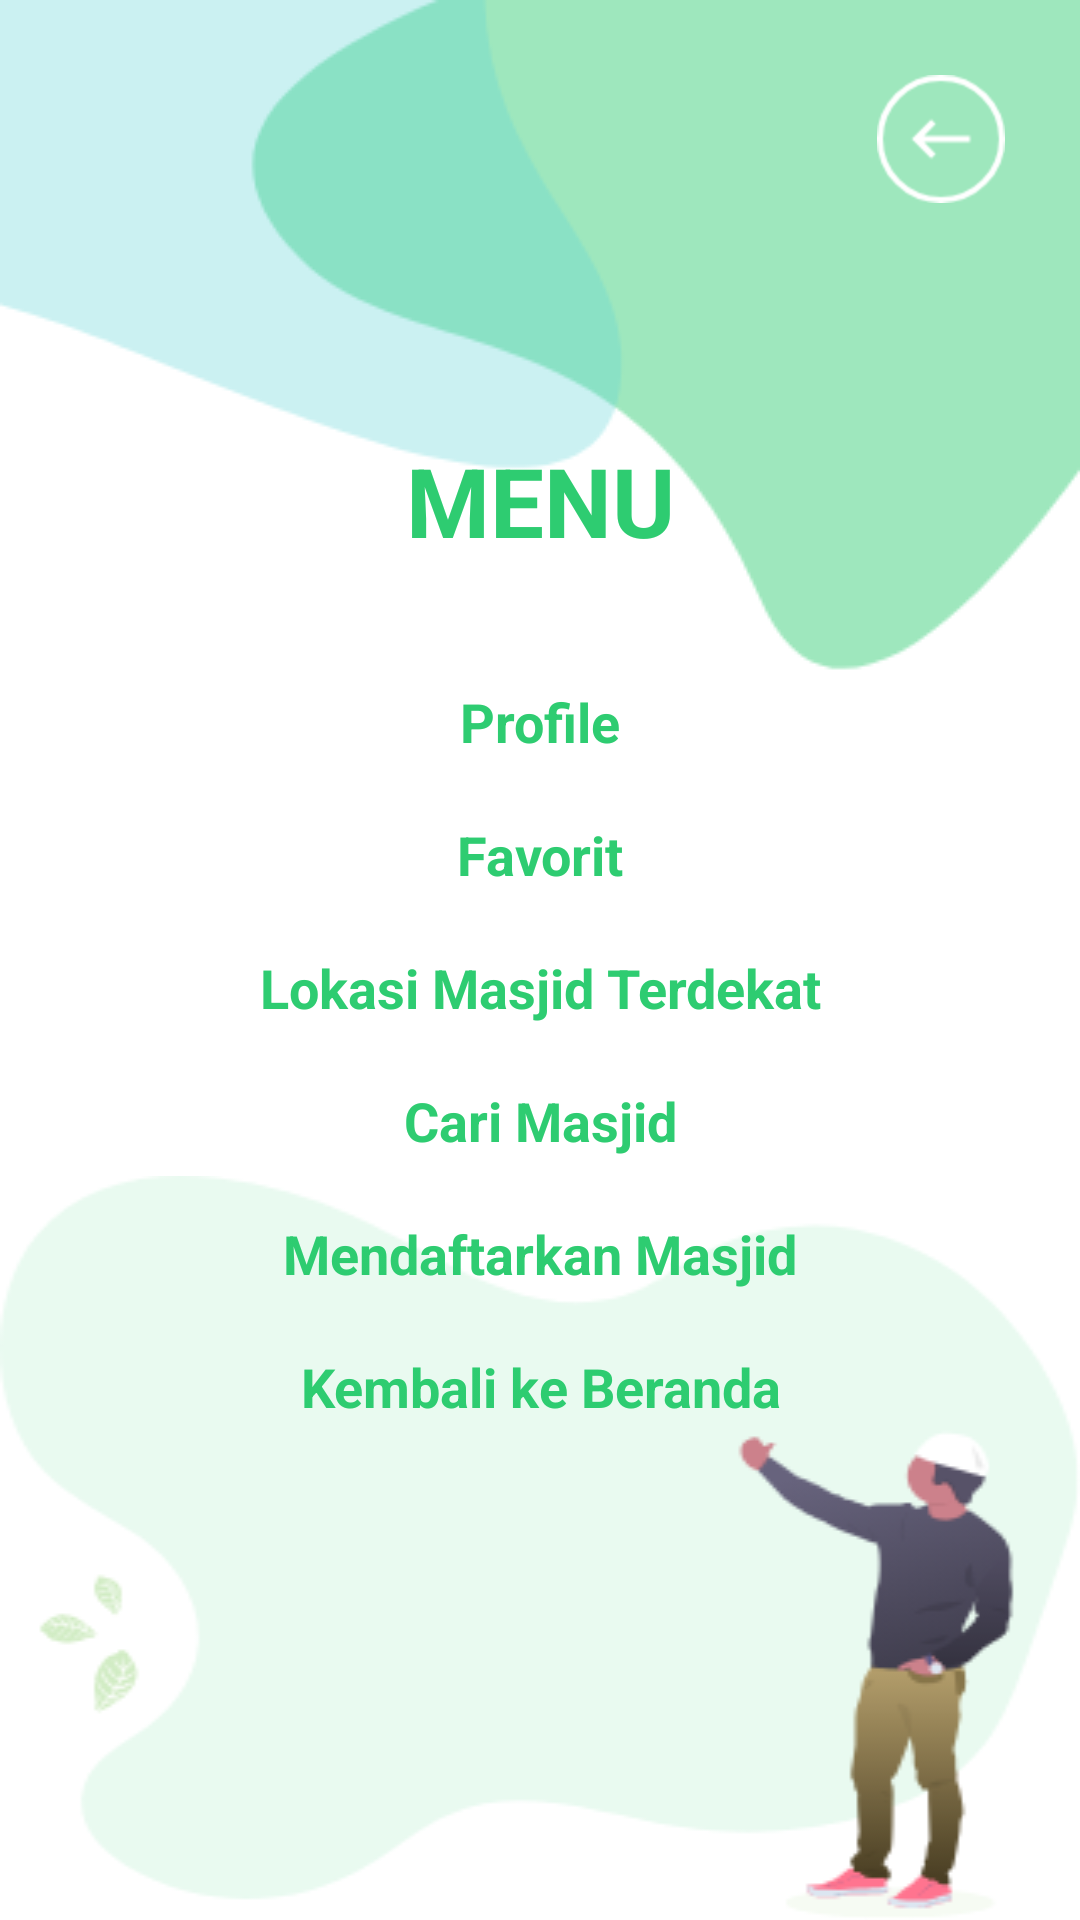

Locate icon controls on the screen. Image size 1080px x 1920px, boxes as [x1,y1,x2,y2].
back rounded: [877,75,1005,203]
